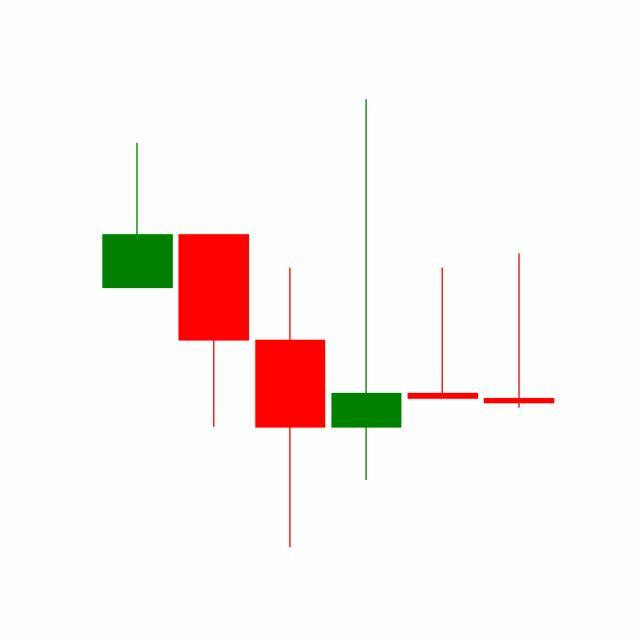Gravestone Doji: (404, 267, 482, 401)
